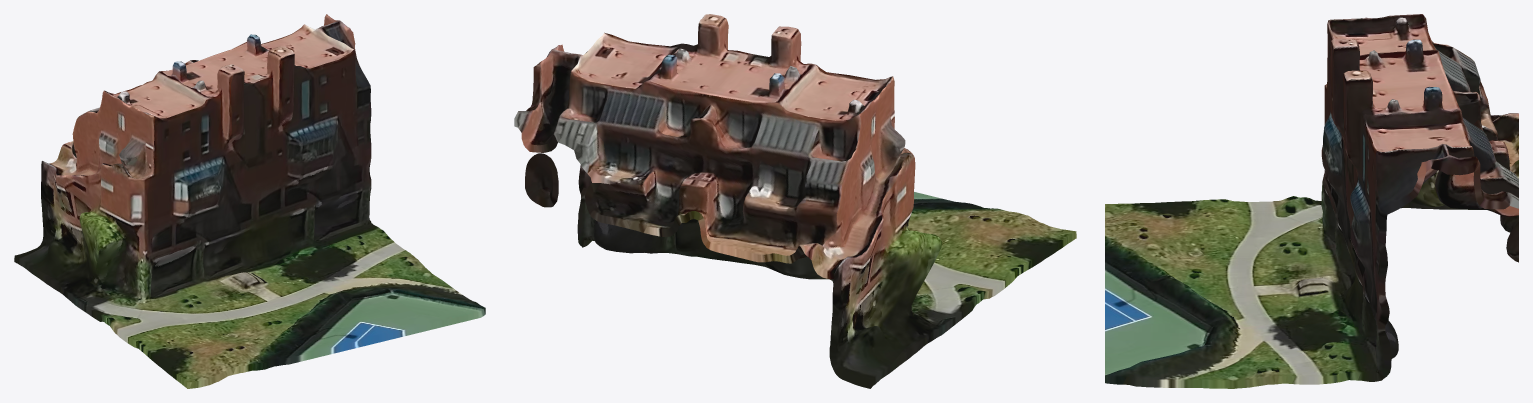
The model's file is z20-167779-405210-h0-yup-uvflip-v3-world.glb.
The picture shows the model from 3 angles, left to right: view 1: azimuth 30°, elevation 25°; view 2: azimuth 150°, elevation 25°; view 3: azimuth 270°, elevation 25°; orthographic projection. The views are drawn at different scales.
Size of the model in its own units: 30.2 by 20.88 by 30.32.
Materials: 1 (1 with a texture image).
